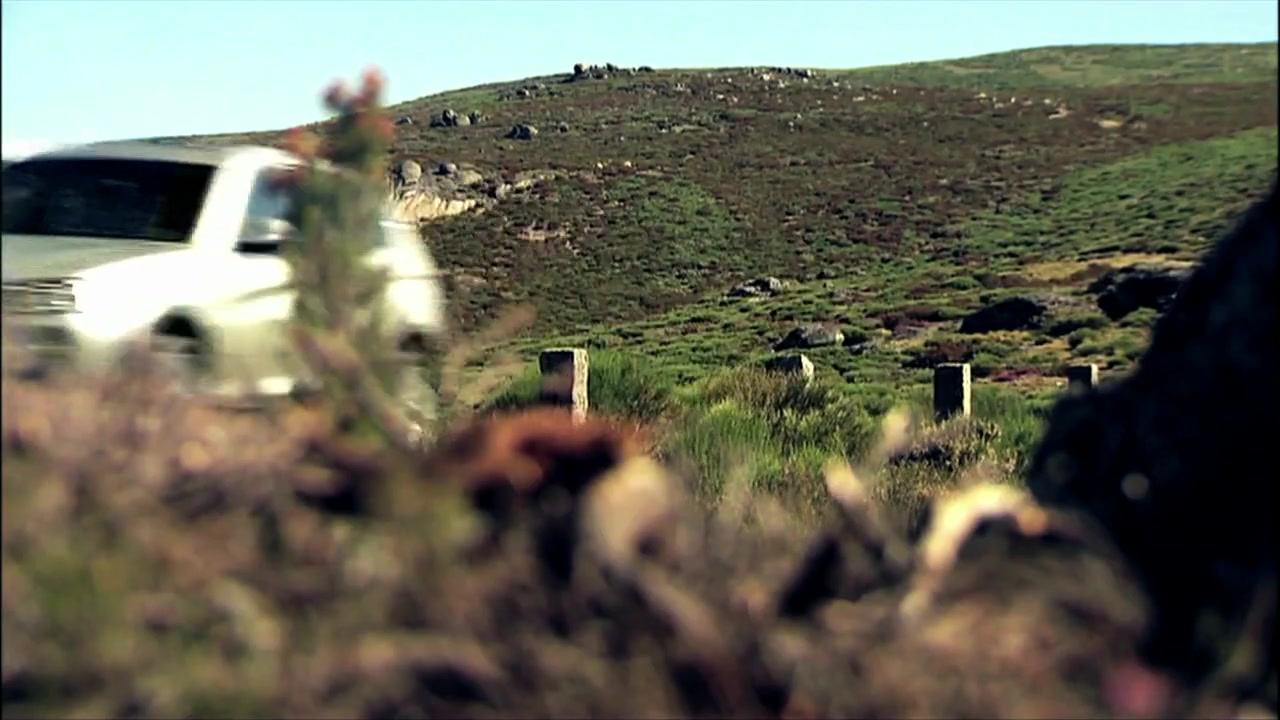car: (2, 143, 451, 445)
